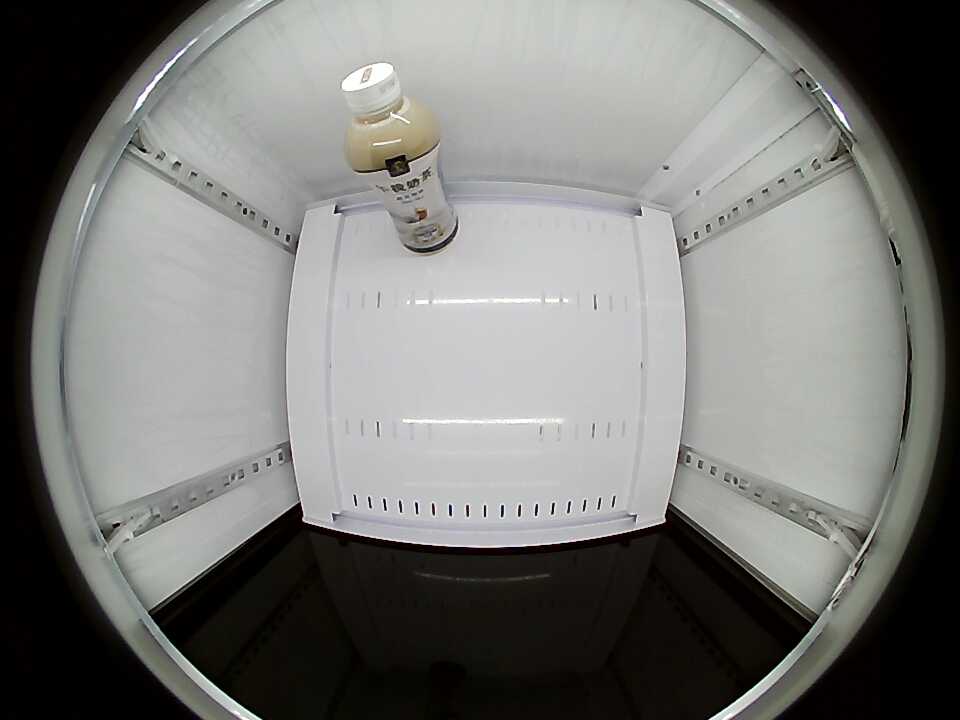wuhounaicha: (341, 61, 439, 169)
